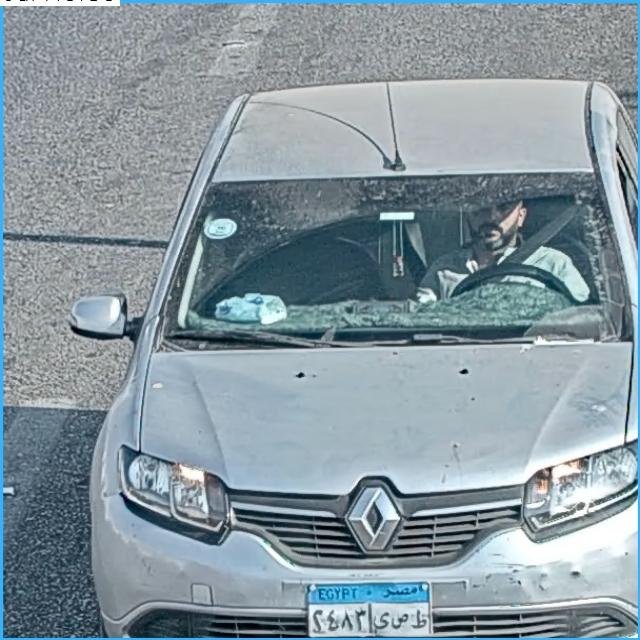windshield: (180, 178, 624, 343)
